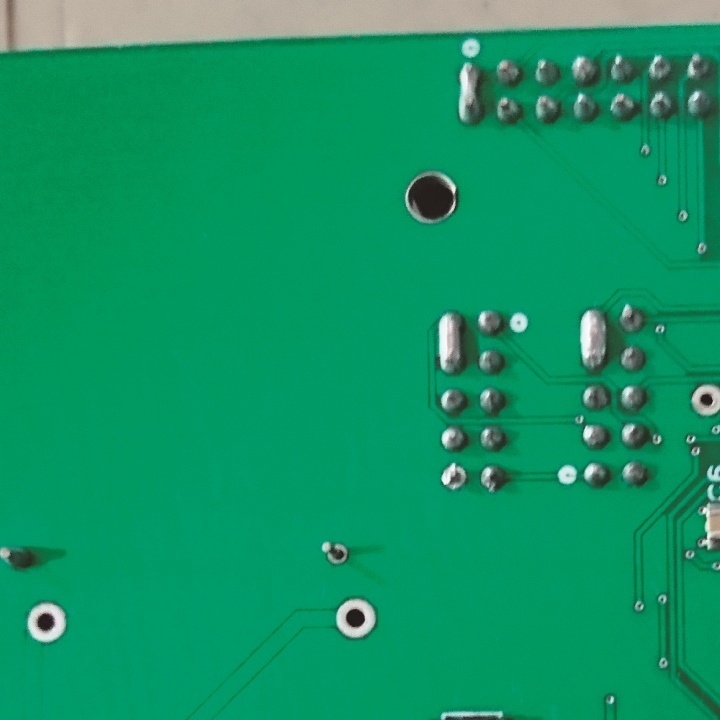F: (25, 598, 72, 643), (334, 598, 379, 643), (688, 380, 720, 420), (436, 459, 468, 495), (317, 538, 351, 567)
P: (454, 56, 487, 128), (577, 304, 610, 375), (435, 304, 464, 375)
